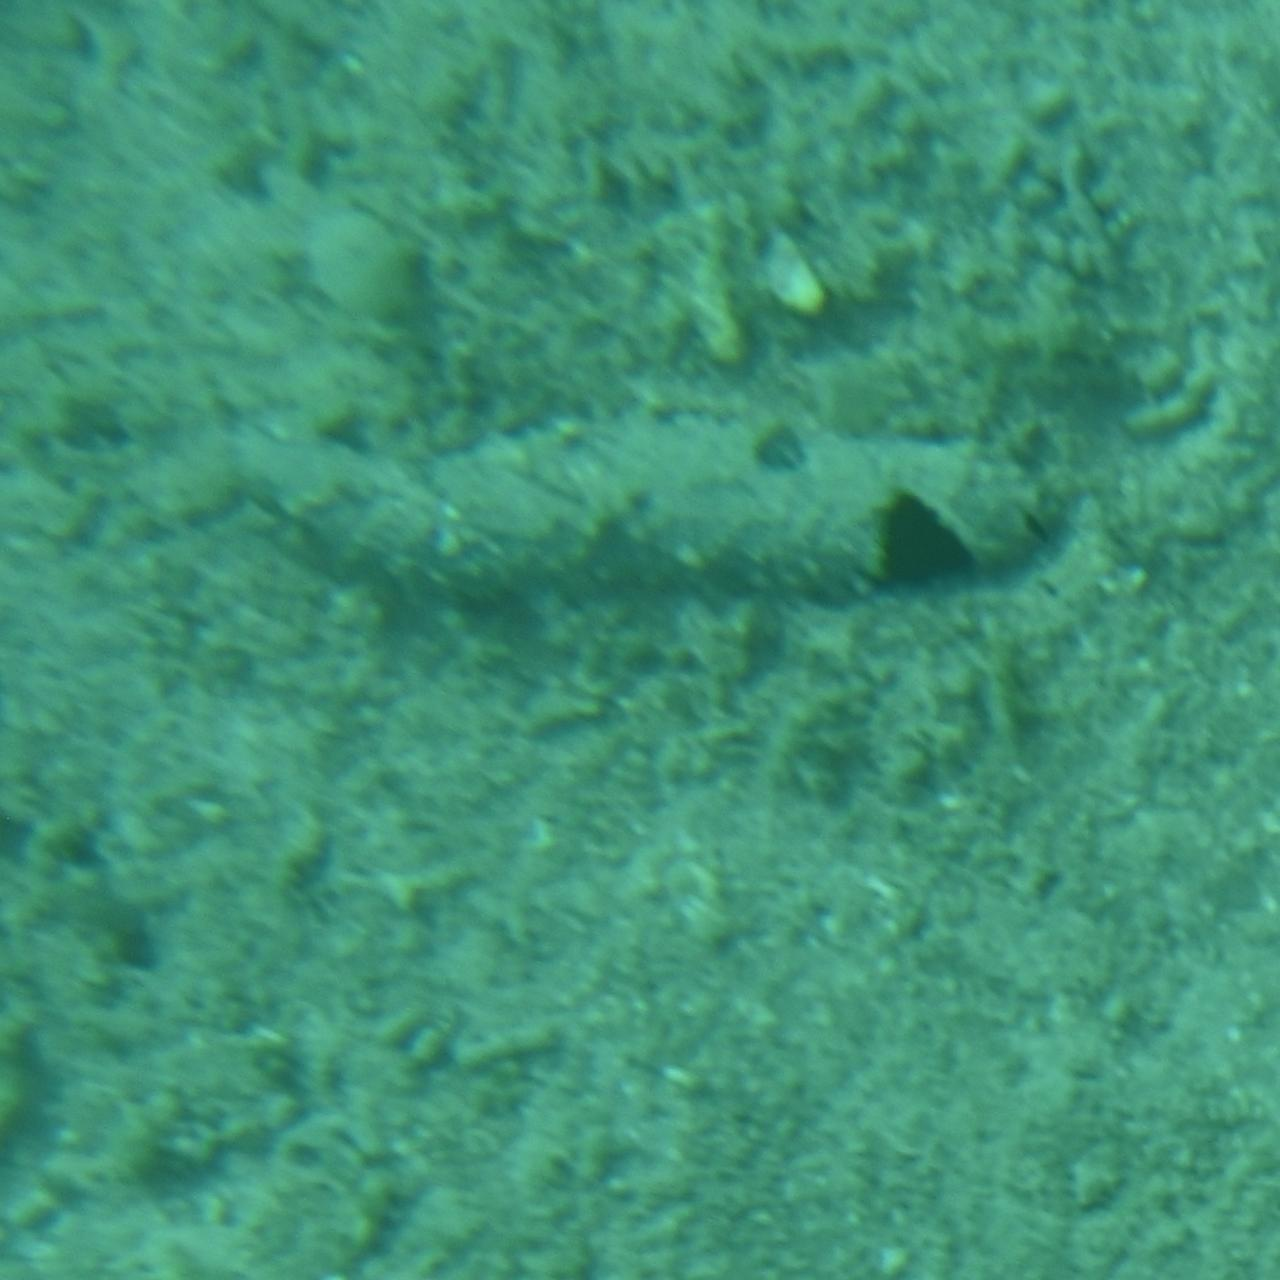Holothuria tubulosa: (192, 400, 1088, 635)
